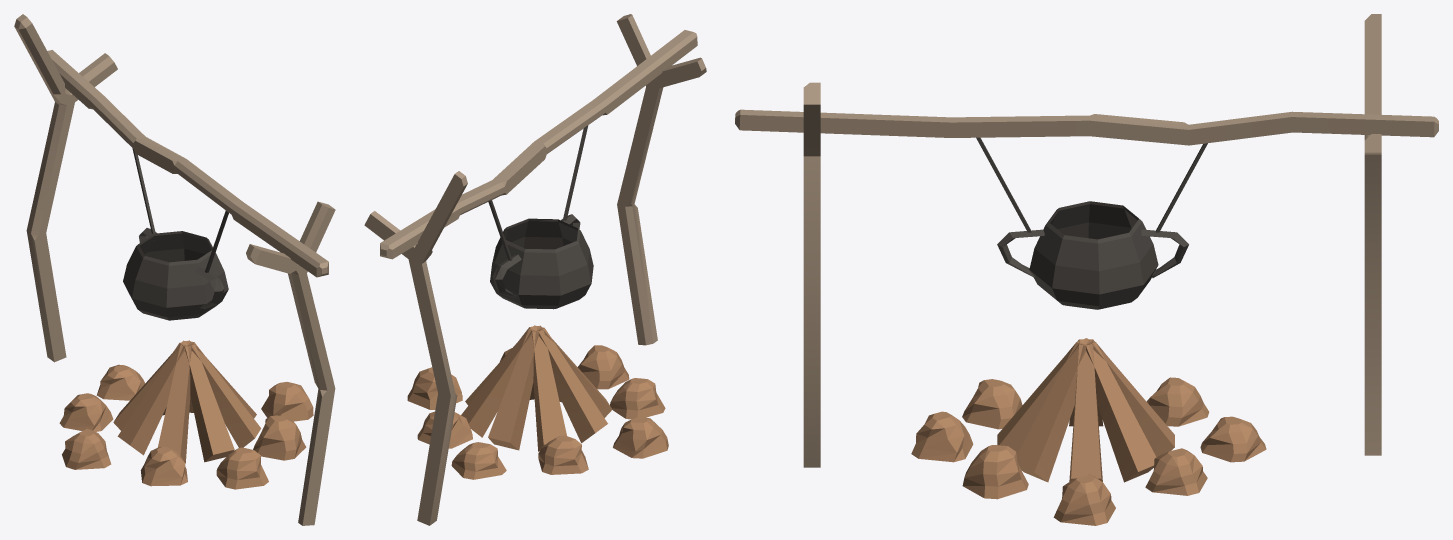
File: 020 Fire_pit_with_Teapot.FBX
The picture shows the model from 3 angles, left to right: view 1: azimuth 30°, elevation 25°; view 2: azimuth 150°, elevation 25°; view 3: azimuth 270°, elevation 25°; orthographic projection. The views are drawn at different scales.
Parts seen in each view (by area): view 1: Teapot003, Line209; view 2: Teapot003, Line209; view 3: Teapot003, Line209.
Boxes of the visible parts, box(x1,y1,x2,y2) form: Teapot003: box(14, 14, 335, 525); Line209: box(59, 340, 313, 489); Teapot003: box(364, 14, 706, 525); Line209: box(407, 325, 668, 479); Teapot003: box(735, 14, 1438, 467); Line209: box(911, 338, 1266, 525).
Bounding box in the file's own units: 83.27 × 113 × 170.
